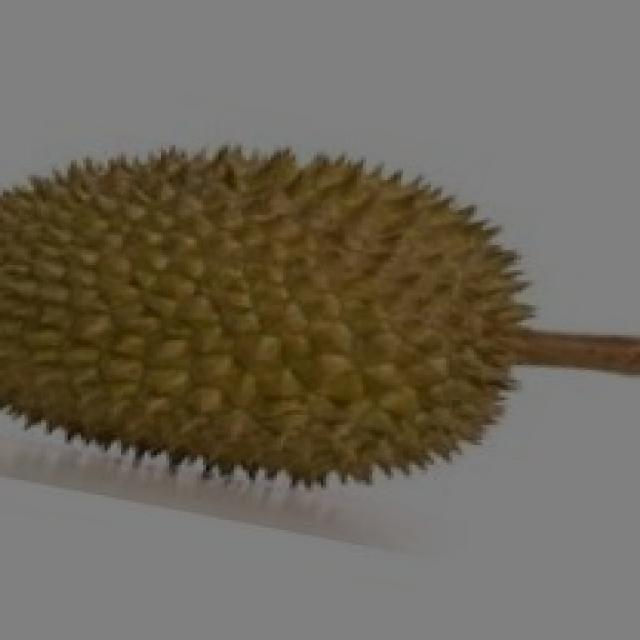fruit: (203, 118, 588, 540), (0, 108, 351, 532)
